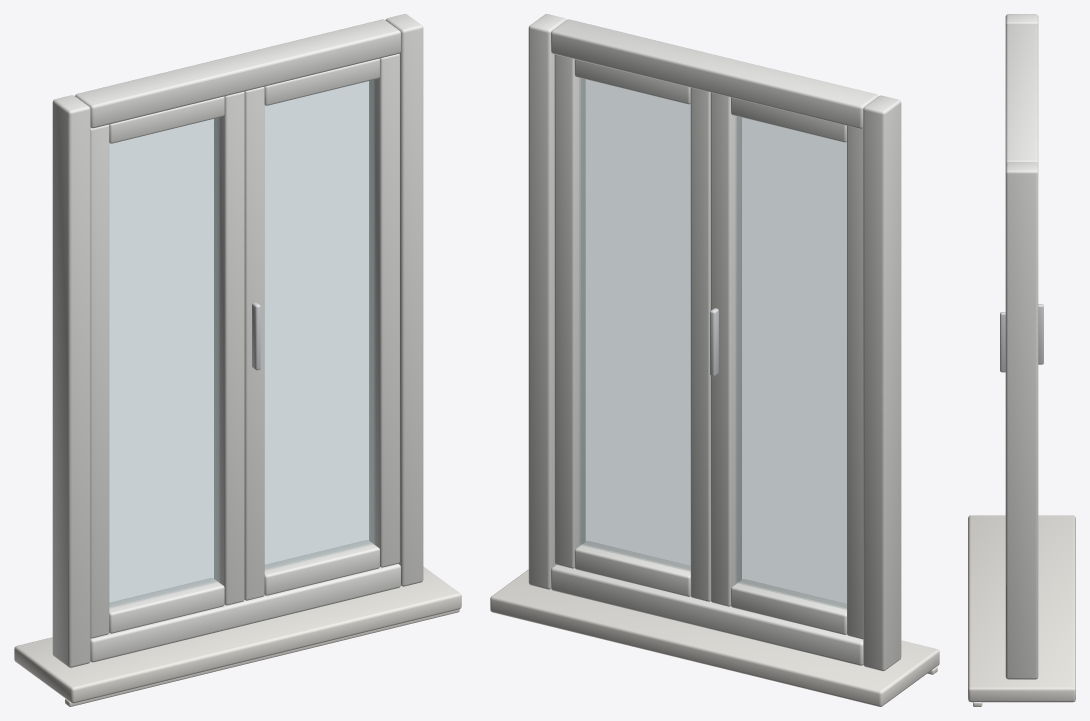
File: janela.glb
The picture shows the model from 3 angles, left to right: view 1: azimuth 30°, elevation 25°; view 2: azimuth 150°, elevation 25°; view 3: azimuth 270°, elevation 25°; orthographic projection. The views are drawn at different scales.
Visible parts, largest first — view 1: p; view 2: p; view 3: p.
Boxes of the visible parts, box(x1,y1,x2,y2) form: p: box(14, 14, 461, 706); p: box(490, 14, 939, 706); p: box(968, 14, 1075, 706).
Bounding box in the file's own units: 0.88 × 1.25 × 0.23.
